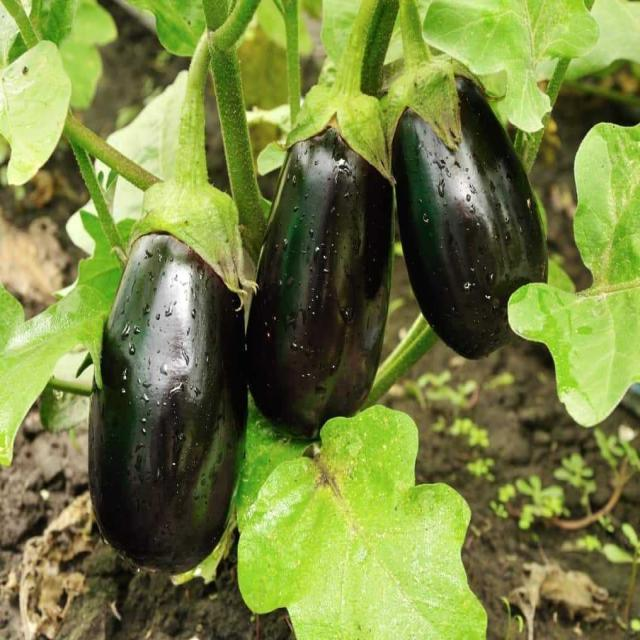Eggplant-r1Ob: (89, 32, 248, 572), (248, 0, 398, 436), (381, 2, 548, 358)
